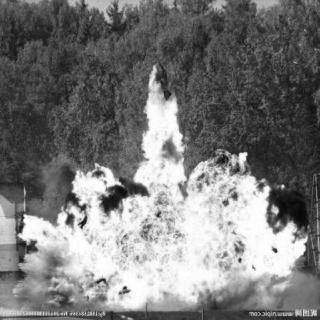Fire: (16, 61, 309, 307)
